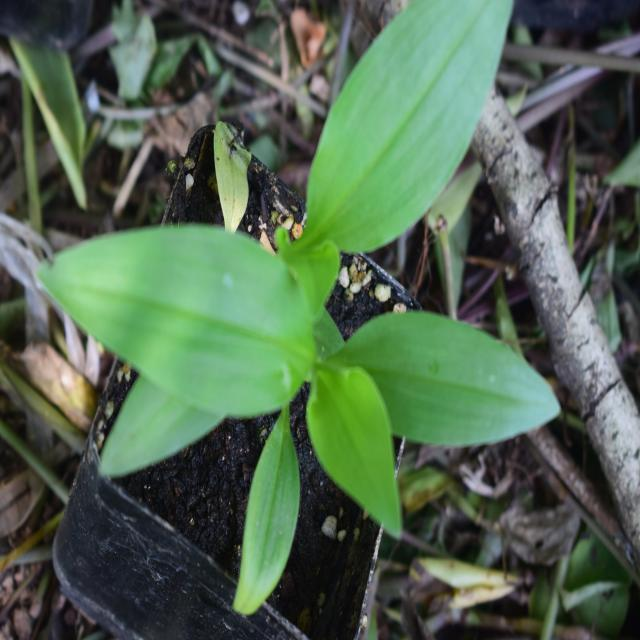Common Dayflower: (51, 196, 540, 557), (287, 1, 547, 209)
